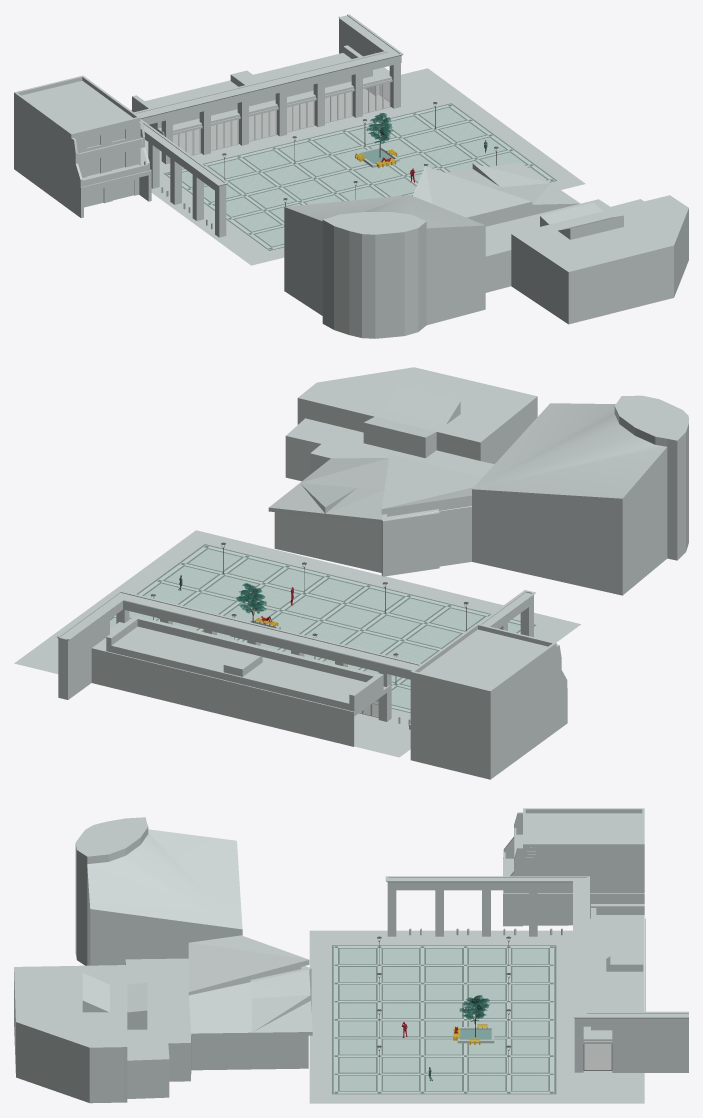
The model's file is websitemodel.glb.
3 views of the same model, one above another, from view 1: azimuth 30°, elevation 25°; view 2: azimuth 150°, elevation 25°; view 3: azimuth 270°, elevation 25° (orthographic). The views are drawn at different scales.
Visible parts, largest first — view 1: object 135, object 134, square 1 component (×21), object 79, object 121, object 55, object 104, object 118, clmn1 (×3), skpD0CF; view 2: object 135, object 134, square 1 component (×19), object 104, object 79, object 121, object 90, object 55, skpD0CF, object 117; view 3: object 135, square 1 component (×38), object 79, object 134, object 121, object 55, object 104, clmn1 (×2), object 120, object 117, skpD0CF, object 118.
Part boxes in pixels (<box>): object 135: <box>284,162,688,338</box>; object 134: <box>14,75,151,217</box>; square 1 component (×21): <box>204,106,507,232</box>; object 79: <box>140,68,585,265</box>; object 121: <box>134,14,403,193</box>; object 55: <box>166,104,554,249</box>; object 104: <box>132,45,372,128</box>; object 118: <box>132,67,392,135</box>; clmn1 (×3): <box>170,158,226,237</box>; skpD0CF: <box>366,113,393,157</box>; object 135: <box>268,367,688,595</box>; object 134: <box>409,623,567,779</box>; square 1 component (×19): <box>142,548,486,663</box>; object 104: <box>106,615,383,711</box>; object 79: <box>14,530,580,757</box>; object 121: <box>56,590,535,699</box>; object 90: <box>91,648,354,746</box>; object 55: <box>110,545,520,712</box>; skpD0CF: <box>236,583,266,622</box>; object 117: <box>223,651,262,676</box>; object 135: <box>14,817,312,1103</box>; square 1 component (×38): <box>338,946,553,1091</box>; object 79: <box>309,930,644,1103</box>; object 134: <box>503,808,644,926</box>; object 121: <box>385,876,688,1072</box>; object 55: <box>333,946,554,1093</box>; object 104: <box>591,904,644,1030</box>; clmn1 (×2): <box>387,890,583,1072</box>; object 120: <box>584,1044,611,1070</box>; object 117: <box>606,956,643,971</box>; skpD0CF: <box>459,995,489,1037</box>; object 118: <box>583,918,612,1043</box>.
Size of the model in its own units: 57.3 by 13.77 by 76.41.
Materials: 16 (6 with a texture image).
